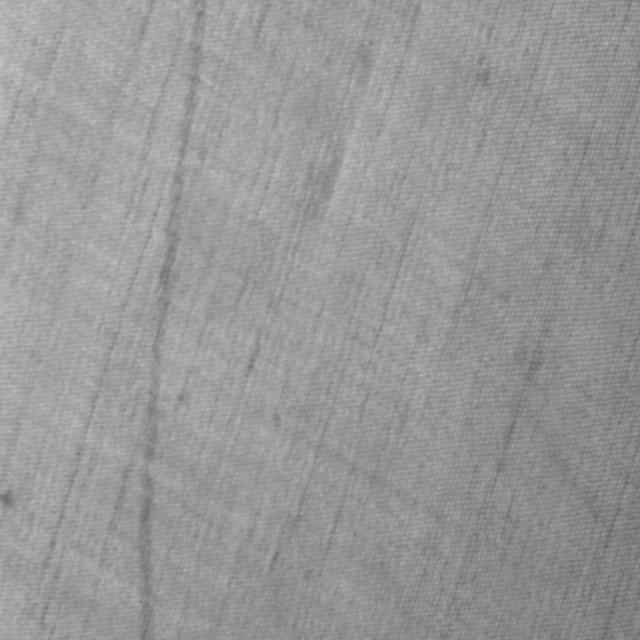oil spot: (137, 0, 210, 638)
